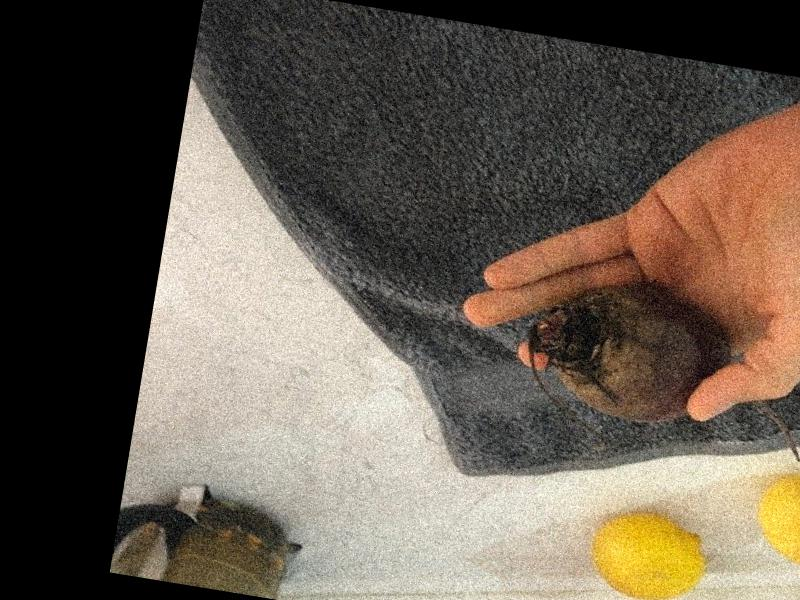Beet: (517, 269, 800, 461)
